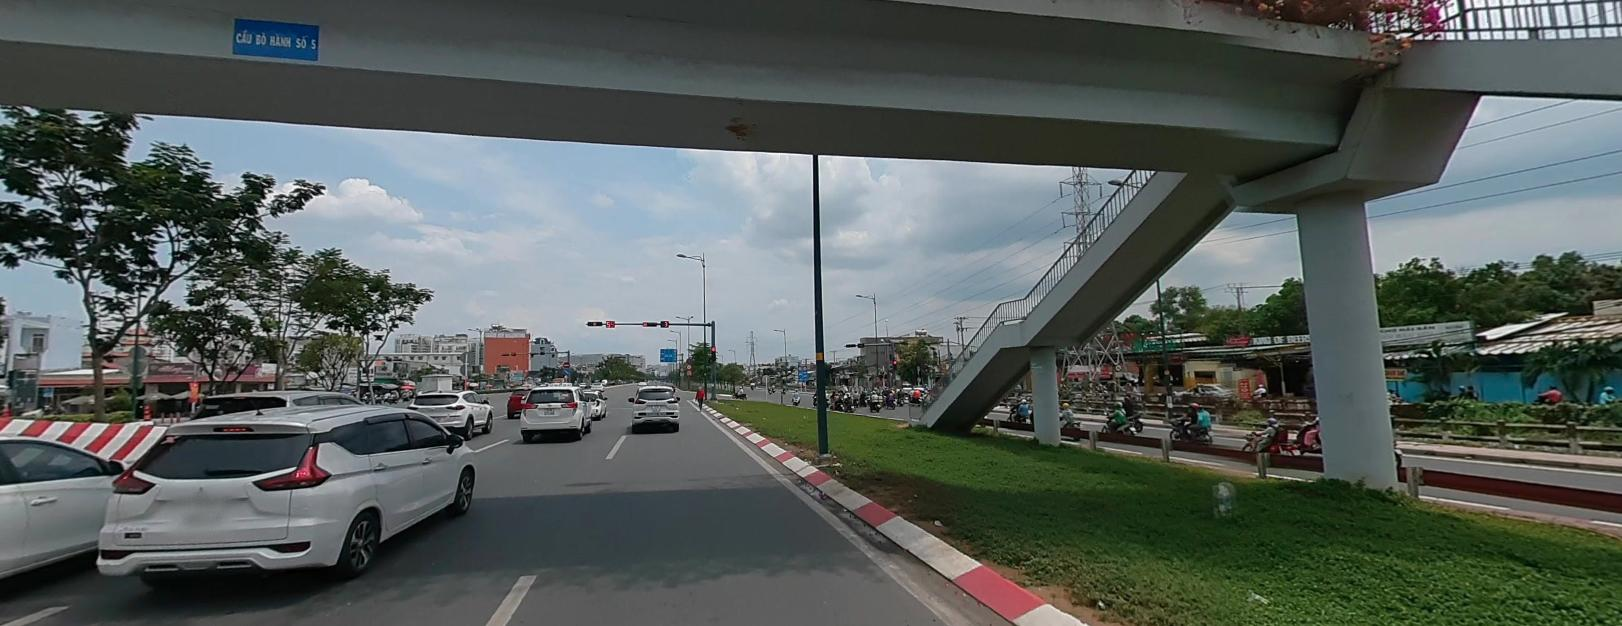Cam nguoc chieu: (563, 360, 569, 366)
Hieu lenh: (563, 367, 569, 372)
